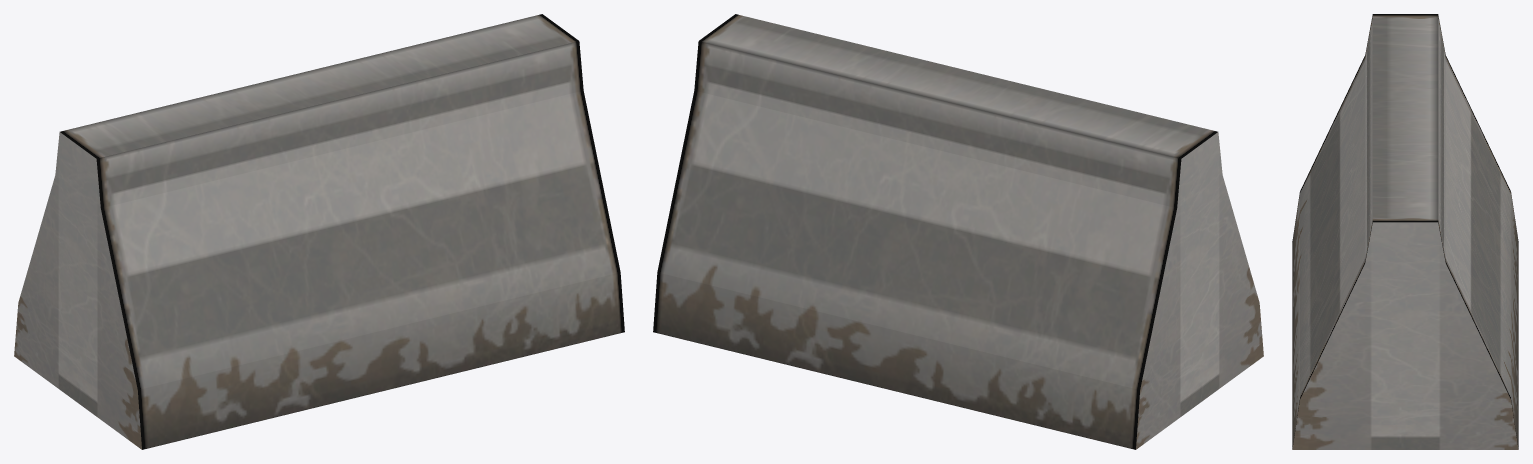
Rendered from Building_AncientMilitaryBarrier.glb.
3 views of the same model, side by side, from view 1: azimuth 30°, elevation 25°; view 2: azimuth 150°, elevation 25°; view 3: azimuth 270°, elevation 25° (orthographic). The views are drawn at different scales.
Visible parts, largest first — view 1: AncientMilitaryBarrier; view 2: AncientMilitaryBarrier; view 3: AncientMilitaryBarrier.
Part boxes in pixels (left/top/right/bottom): AncientMilitaryBarrier: left=14, top=14, right=624, bottom=449; AncientMilitaryBarrier: left=653, top=14, right=1263, bottom=449; AncientMilitaryBarrier: left=1292, top=14, right=1518, bottom=449.
Bounding box in the file's own units: 1.96 × 1 × 0.9.
1 material, 1 textured.
